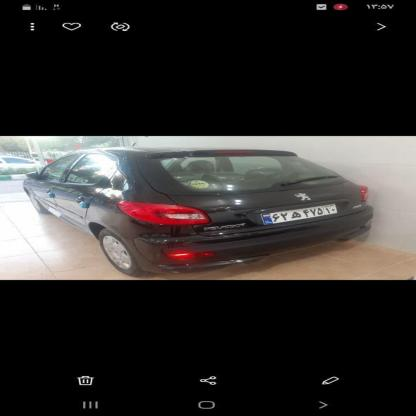Car: (12, 142, 391, 280)
